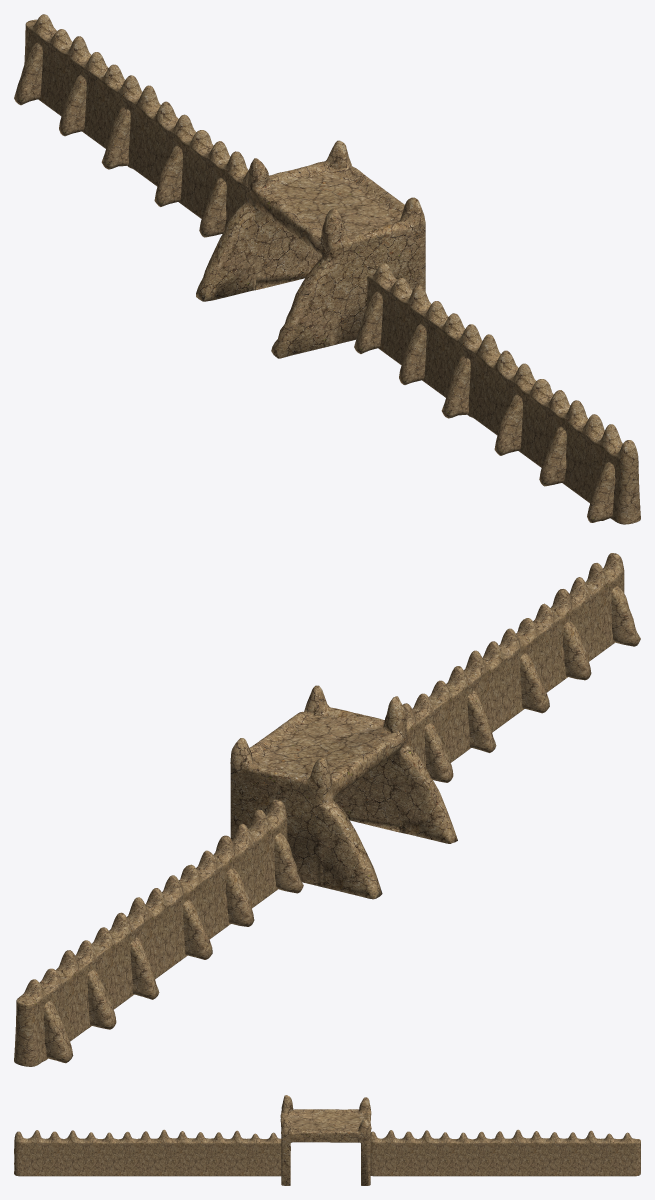
Rendered from KofarGari.obj.
3 views of the same model, one above another, from view 1: azimuth 30°, elevation 25°; view 2: azimuth 150°, elevation 25°; view 3: azimuth 270°, elevation 25° (orthographic). The views are drawn at different scales.
Parts seen in each view (by area): view 1: Gofar_Gari, Ganuwa_Right, Ganuwa_Left; view 2: Gofar_Gari, Ganuwa_Left, Ganuwa_Right; view 3: Ganuwa_Left, Ganuwa_Right, Gofar_Gari.
Boxes of the visible parts, <box> form: Gofar_Gari: <box>196,140,425,358</box>; Ganuwa_Right: <box>354,263,640,524</box>; Ganuwa_Left: <box>14,14,270,237</box>; Gofar_Gari: <box>230,685,457,899</box>; Ganuwa_Left: <box>14,799,303,1066</box>; Ganuwa_Right: <box>402,553,640,782</box>; Ganuwa_Left: <box>370,1129,640,1176</box>; Ganuwa_Right: <box>14,1129,281,1176</box>; Gofar_Gari: <box>280,1095,371,1185</box>.
Bounding box in the file's own units: 32.75 × 28.05 × 229.
